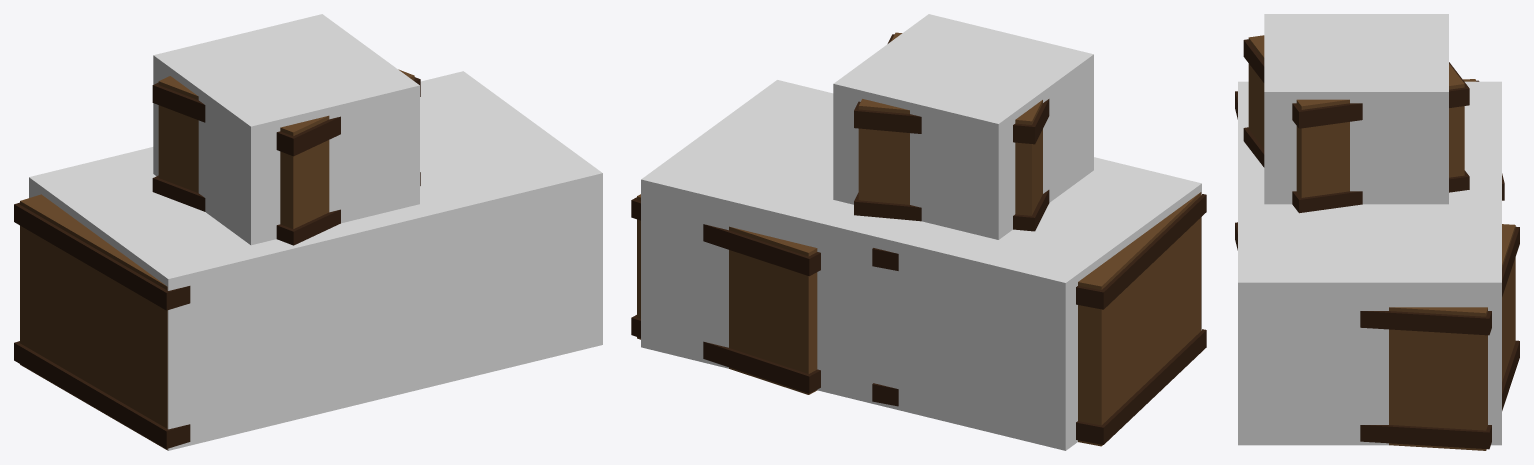
The model's file is CrateStack.fbx.
3 renders of one model, left to right at view 1: azimuth 30°, elevation 25°; view 2: azimuth 150°, elevation 25°; view 3: azimuth 270°, elevation 25°, orthographic. The views are drawn at different scales.
Parts seen in each view (by area): view 1: COL_CrateStack_0, CrateStack, COL_CrateStack_1; view 2: COL_CrateStack_0, CrateStack, COL_CrateStack_1; view 3: COL_CrateStack_0, COL_CrateStack_1, CrateStack.
Part boxes in pixels (x1,y1,x2,y2): COL_CrateStack_0: [29, 71, 602, 450]; CrateStack: [14, 69, 420, 450]; COL_CrateStack_1: [153, 14, 419, 245]; COL_CrateStack_0: [641, 80, 1201, 450]; CrateStack: [631, 32, 1206, 446]; COL_CrateStack_1: [833, 14, 1093, 239]; COL_CrateStack_0: [1238, 81, 1501, 445]; COL_CrateStack_1: [1264, 14, 1448, 204]; CrateStack: [1235, 35, 1519, 450].
Bounding box in the file's own units: 1.98 × 1.15 × 1.08.
